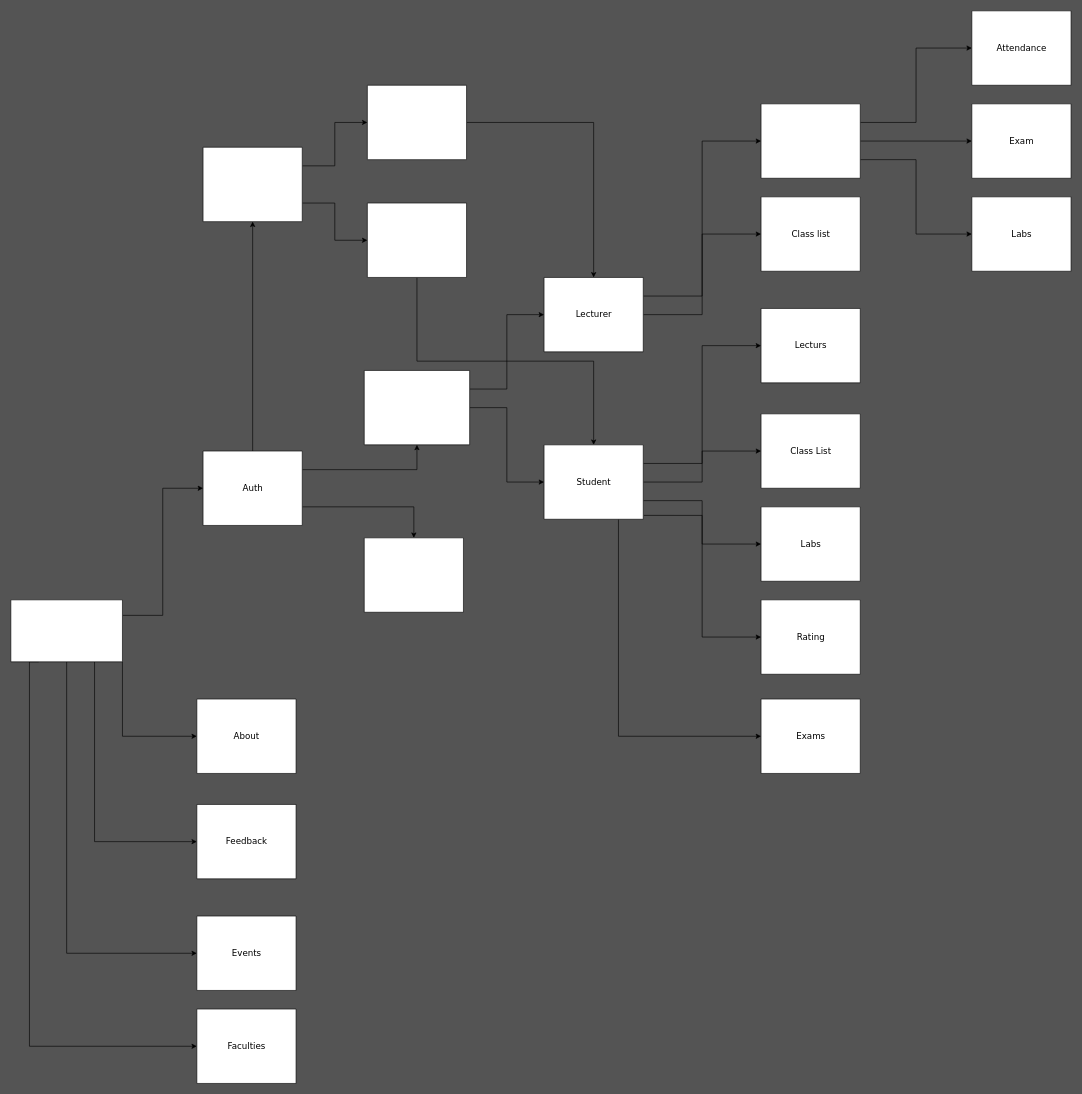
This 1082x1094 diagram has some shape labels left out. Each missing label, with the centre of its shape:
"Forgot" belongs at point 413,574.
"Group" belongs at point 810,140.
"Home" belongs at point 66,630.
"Log in" belongs at point 417,407.
"Sing in" belongs at point 252,184.
"Sing in (student)" belongs at point 417,239.
"Sing in(lecturer)" belongs at point 417,122.
